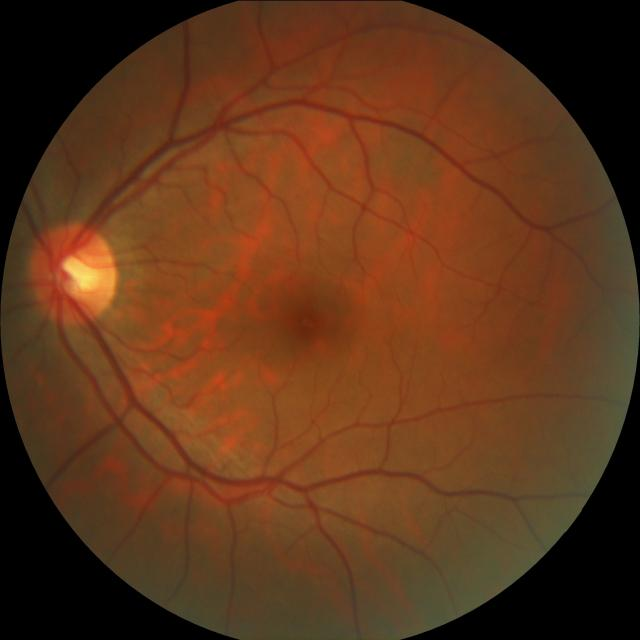OC: (51, 250, 97, 298)
OD: (28, 219, 116, 325)
